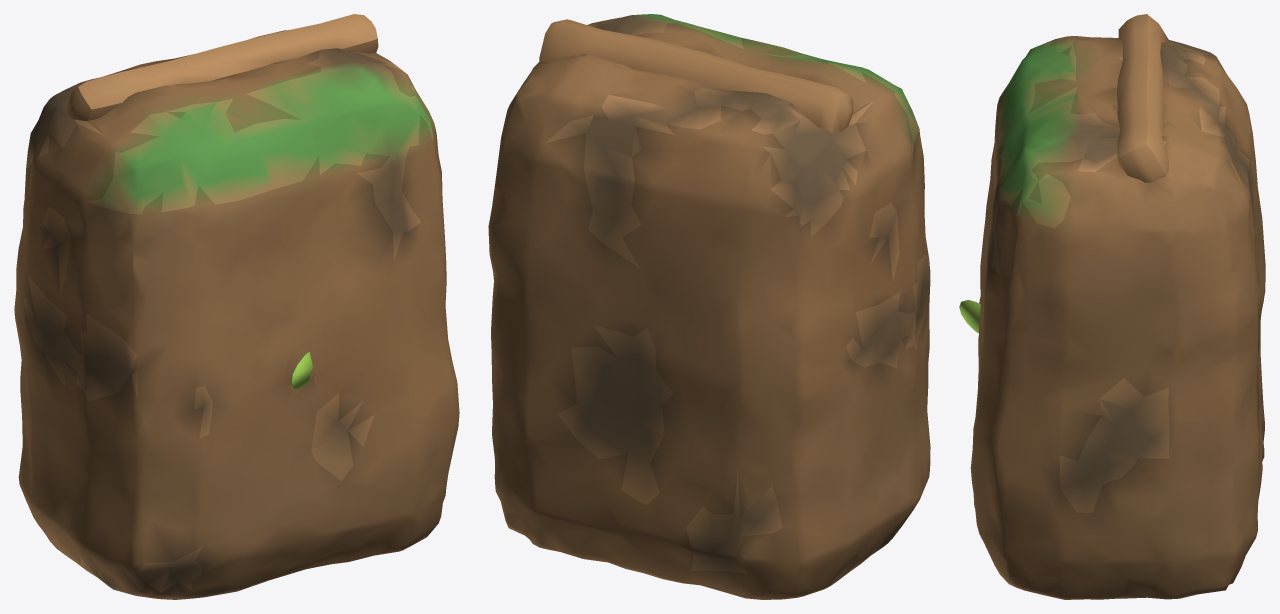
The model's file is canopy_seed_bag_lod1.glb.
3 views of the same model, side by side, from view 1: azimuth 30°, elevation 25°; view 2: azimuth 150°, elevation 25°; view 3: azimuth 270°, elevation 25° (orthographic). The views are drawn at different scales.
Visible parts, largest first — view 1: canopy_seed_bag.001; view 2: canopy_seed_bag.001; view 3: canopy_seed_bag.001.
Boxes of the visible parts, <box> form: canopy_seed_bag.001: <box>14,14,459,599</box>; canopy_seed_bag.001: <box>488,14,930,599</box>; canopy_seed_bag.001: <box>959,14,1265,599</box>.
Bounding box in the file's own units: 26.52 × 34.97 × 20.55.
